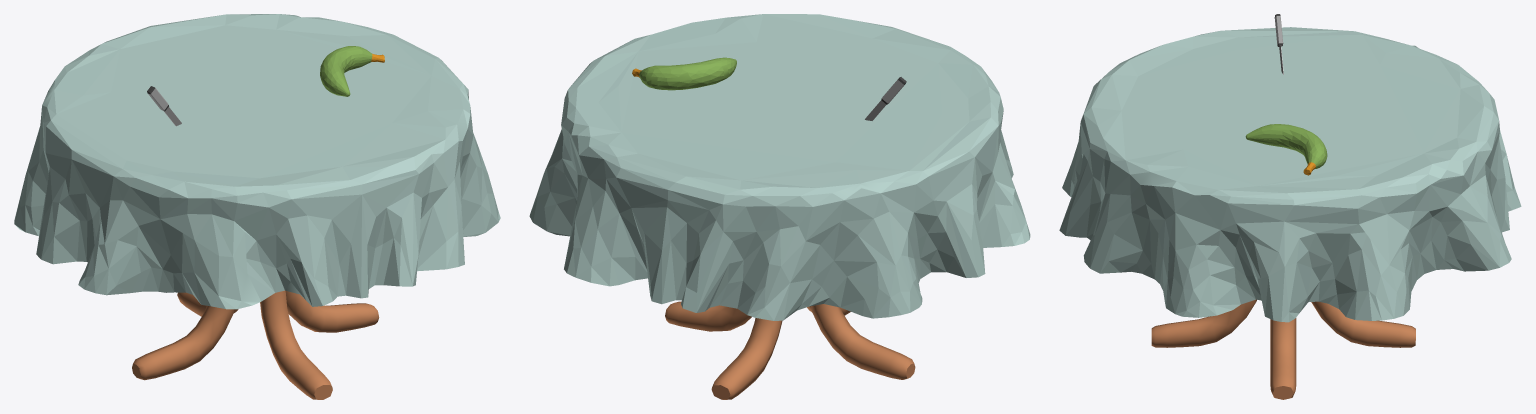
File: o3_tavolo_tovaglia.glb
3 views of the same model, side by side, from view 1: azimuth 30°, elevation 25°; view 2: azimuth 150°, elevation 25°; view 3: azimuth 270°, elevation 25° (orthographic). The views are drawn at different scales.
Parts seen in each view (by area): view 1: sb_modello; view 2: sb_modello; view 3: sb_modello.
Part boxes in pixels (x1,y1,x2,y2): sb_modello: (14, 14, 500, 399); sb_modello: (529, 14, 1030, 399); sb_modello: (1059, 14, 1521, 399).
Bounding box in the file's own units: 1.12 × 0.75 × 1.11.
Materials: 1 (1 with a texture image).
